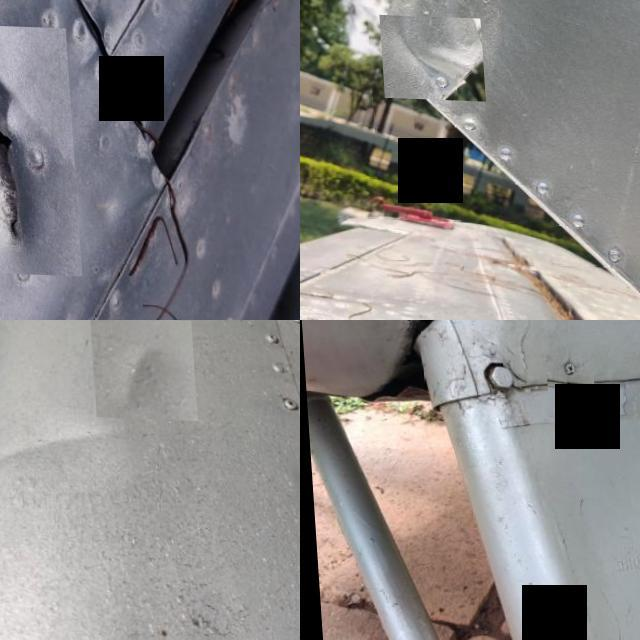Crack: (0, 20, 75, 273), (542, 368, 592, 416)
Dent: (0, 385, 132, 503), (86, 320, 192, 417), (375, 14, 481, 100)
